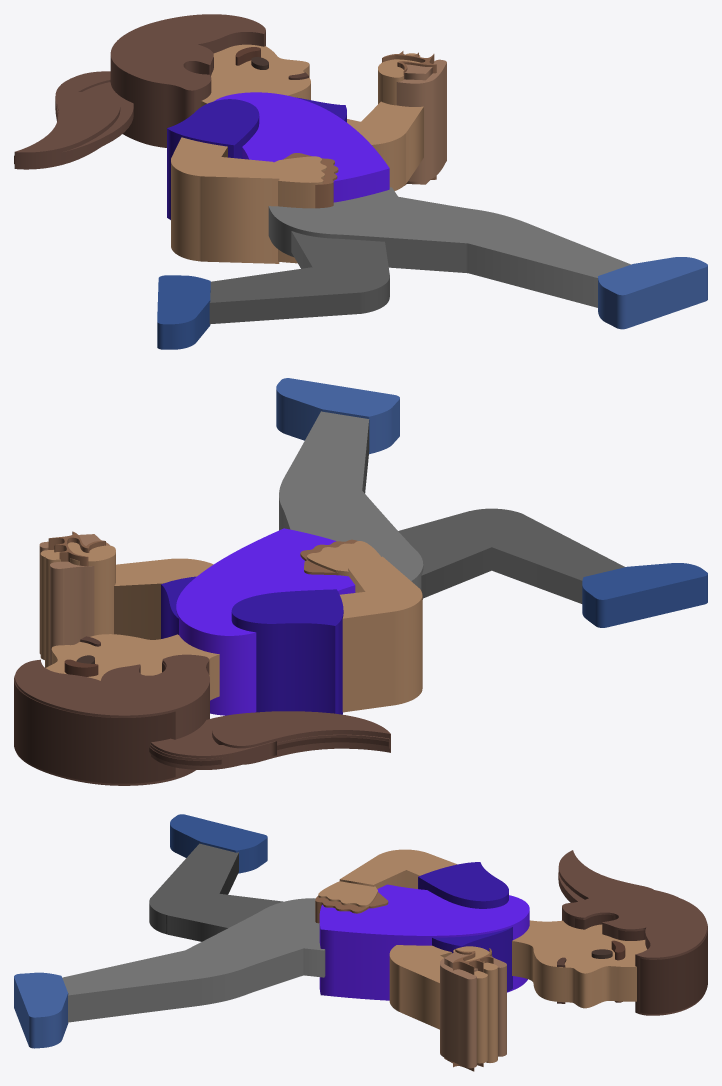
File: emoji_u1f3c3_1f3fd_200d_2640_200d_27a1.glb
3 views of the same model, one above another, from view 1: azimuth 30°, elevation 25°; view 2: azimuth 150°, elevation 25°; view 3: azimuth 270°, elevation 25° (orthographic). The views are drawn at different scales.
Parts seen in each view (by area): view 1: emoji_u1f3c3_1f3fd_200d_2640_200d_27a1; view 2: emoji_u1f3c3_1f3fd_200d_2640_200d_27a1; view 3: emoji_u1f3c3_1f3fd_200d_2640_200d_27a1.
Part boxes in pixels (x1,y1,x2,y2): emoji_u1f3c3_1f3fd_200d_2640_200d_27a1: [14, 14, 707, 349]; emoji_u1f3c3_1f3fd_200d_2640_200d_27a1: [14, 378, 707, 785]; emoji_u1f3c3_1f3fd_200d_2640_200d_27a1: [14, 814, 707, 1071].
Size of the model in its own units: 0.023 by 0.0054 by 0.0325.
